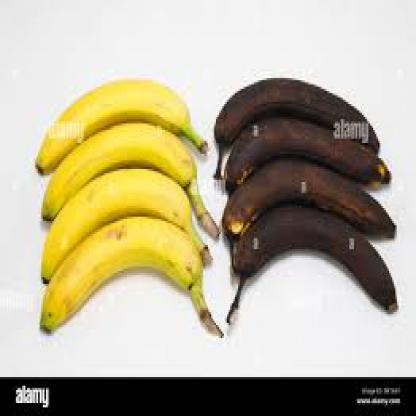banana_rotten: (210, 60, 406, 340)
